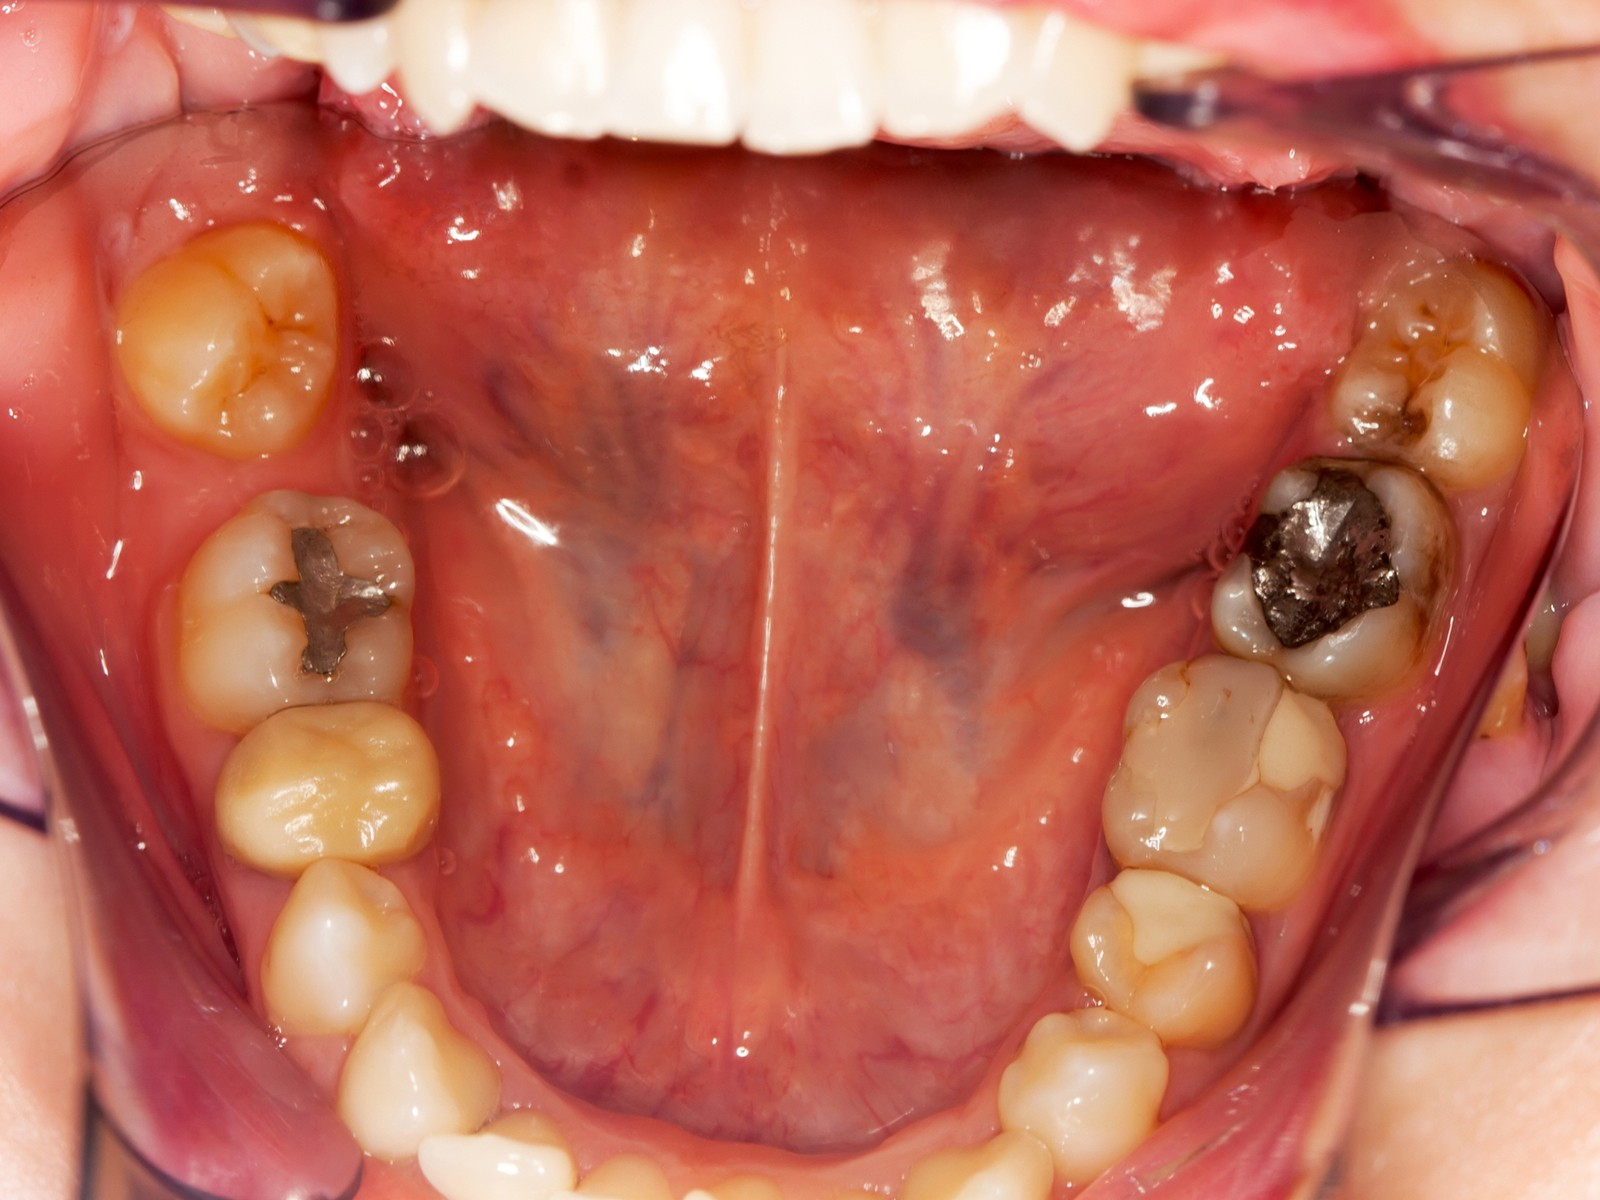LL1BC_healthy: (1072, 867, 1264, 1031)
LL1M_decay: (1230, 463, 1448, 672)
LL2BC_decay: (1110, 664, 1343, 890)
LL2M_decay: (1346, 268, 1527, 466)
LLCI_decay: (792, 1117, 884, 1200)
LLC_healthy: (1000, 1026, 1169, 1157)
LLLI_healthy: (910, 1126, 1054, 1200)
LR1BC_healthy: (340, 998, 495, 1134)
LR1M_healthy: (220, 705, 445, 868)
LR2BC_healthy: (267, 860, 436, 1018)
LR2M_healthy: (176, 493, 420, 713)
LR3M_decay: (136, 229, 340, 440)
LRCI_decay: (679, 1122, 786, 1200)
LRC_healthy: (452, 1102, 591, 1200)
LRLI_healthy: (581, 1133, 671, 1200)
